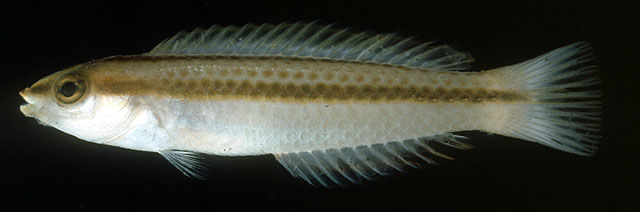fish: (19, 22, 604, 187)
